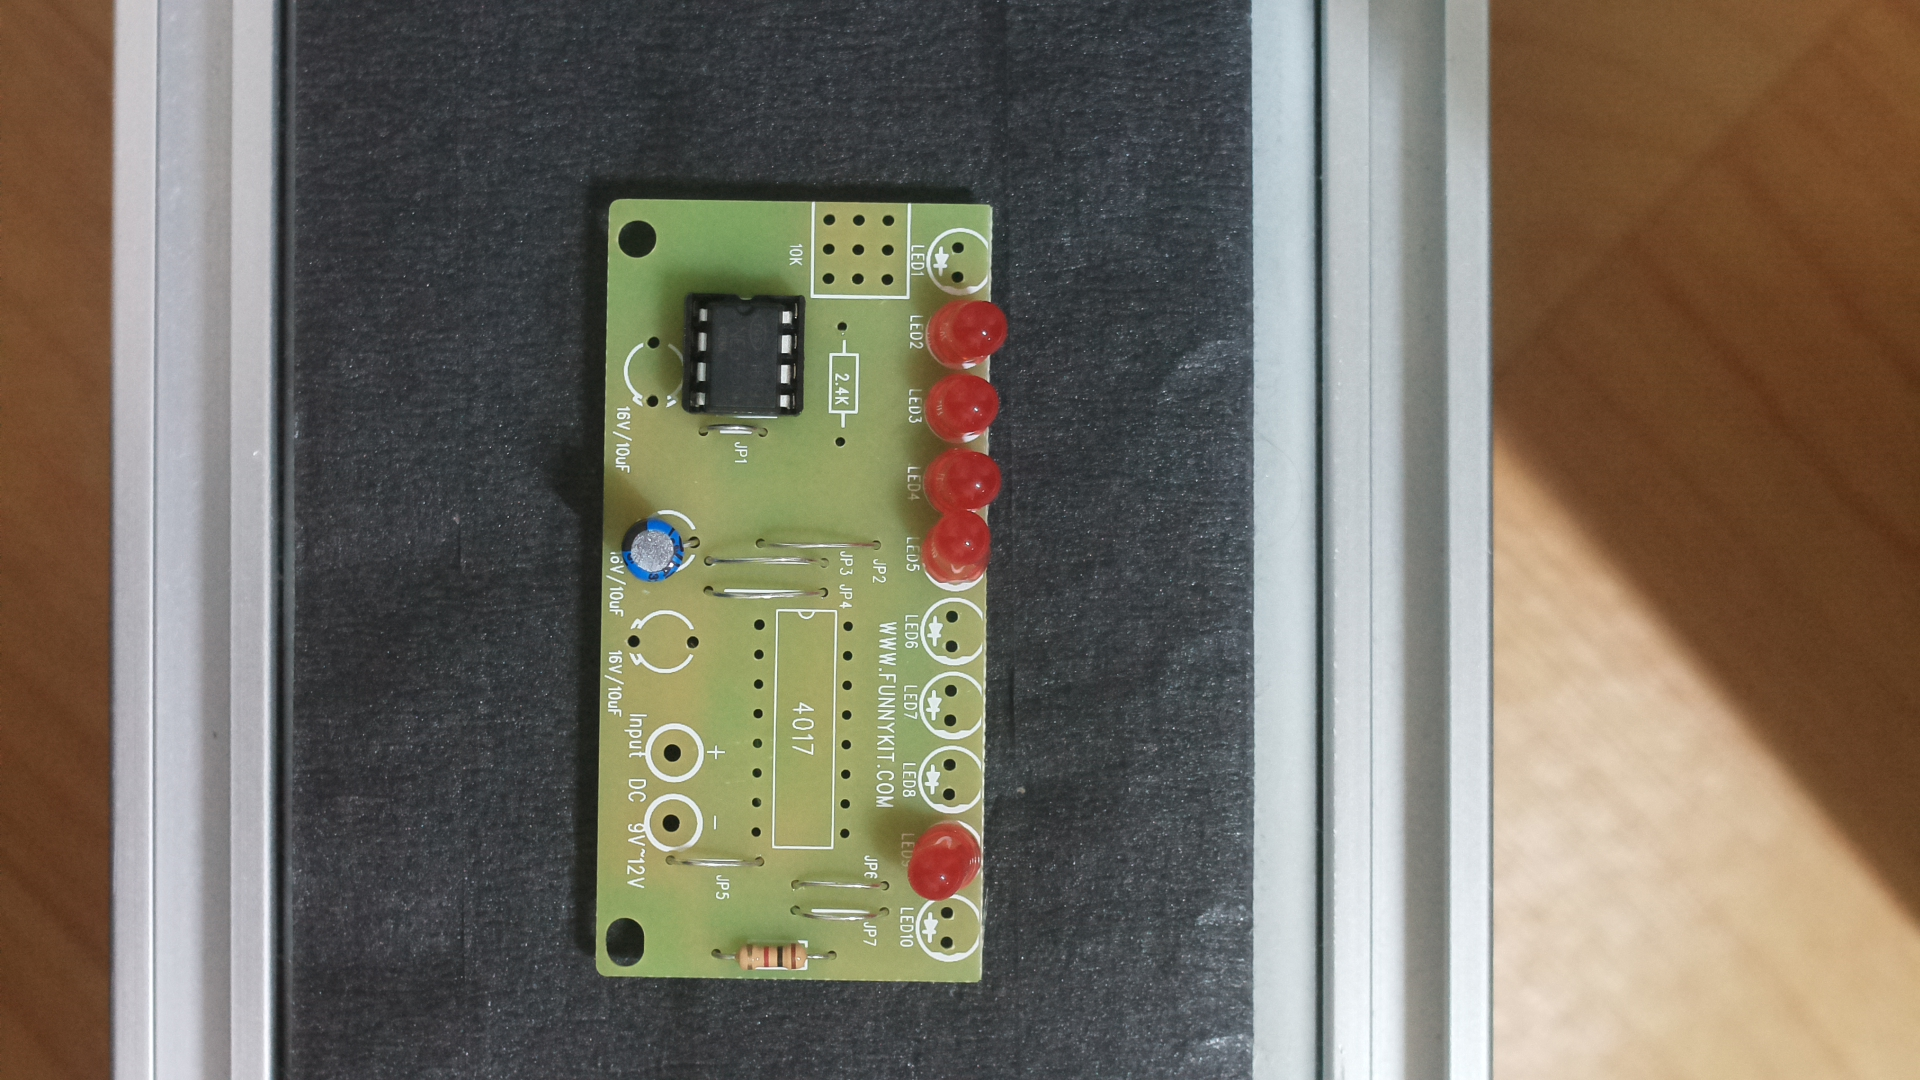B_Missing_part: (579, 175, 1013, 1010)
